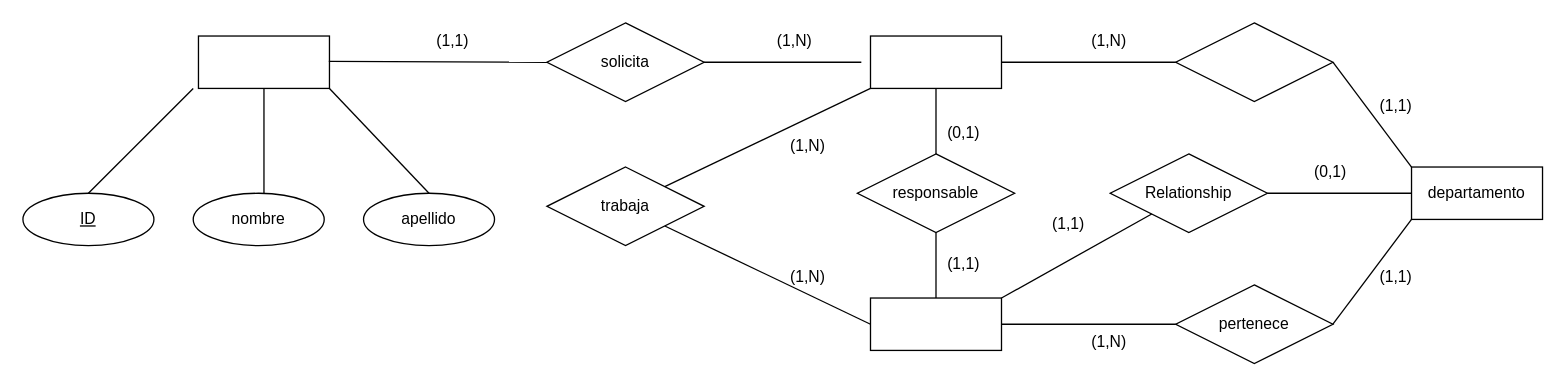
Image size: 1565x390. Some labels were removed from this diagram. Here are the shapes that lost their labels. From the top down, the box of each, then its label:
(197, 35, 329, 88): CLIENTE
(869, 35, 1001, 88): proyecto
(1174, 22, 1333, 102): asignado
(869, 297, 1001, 350): empleado
